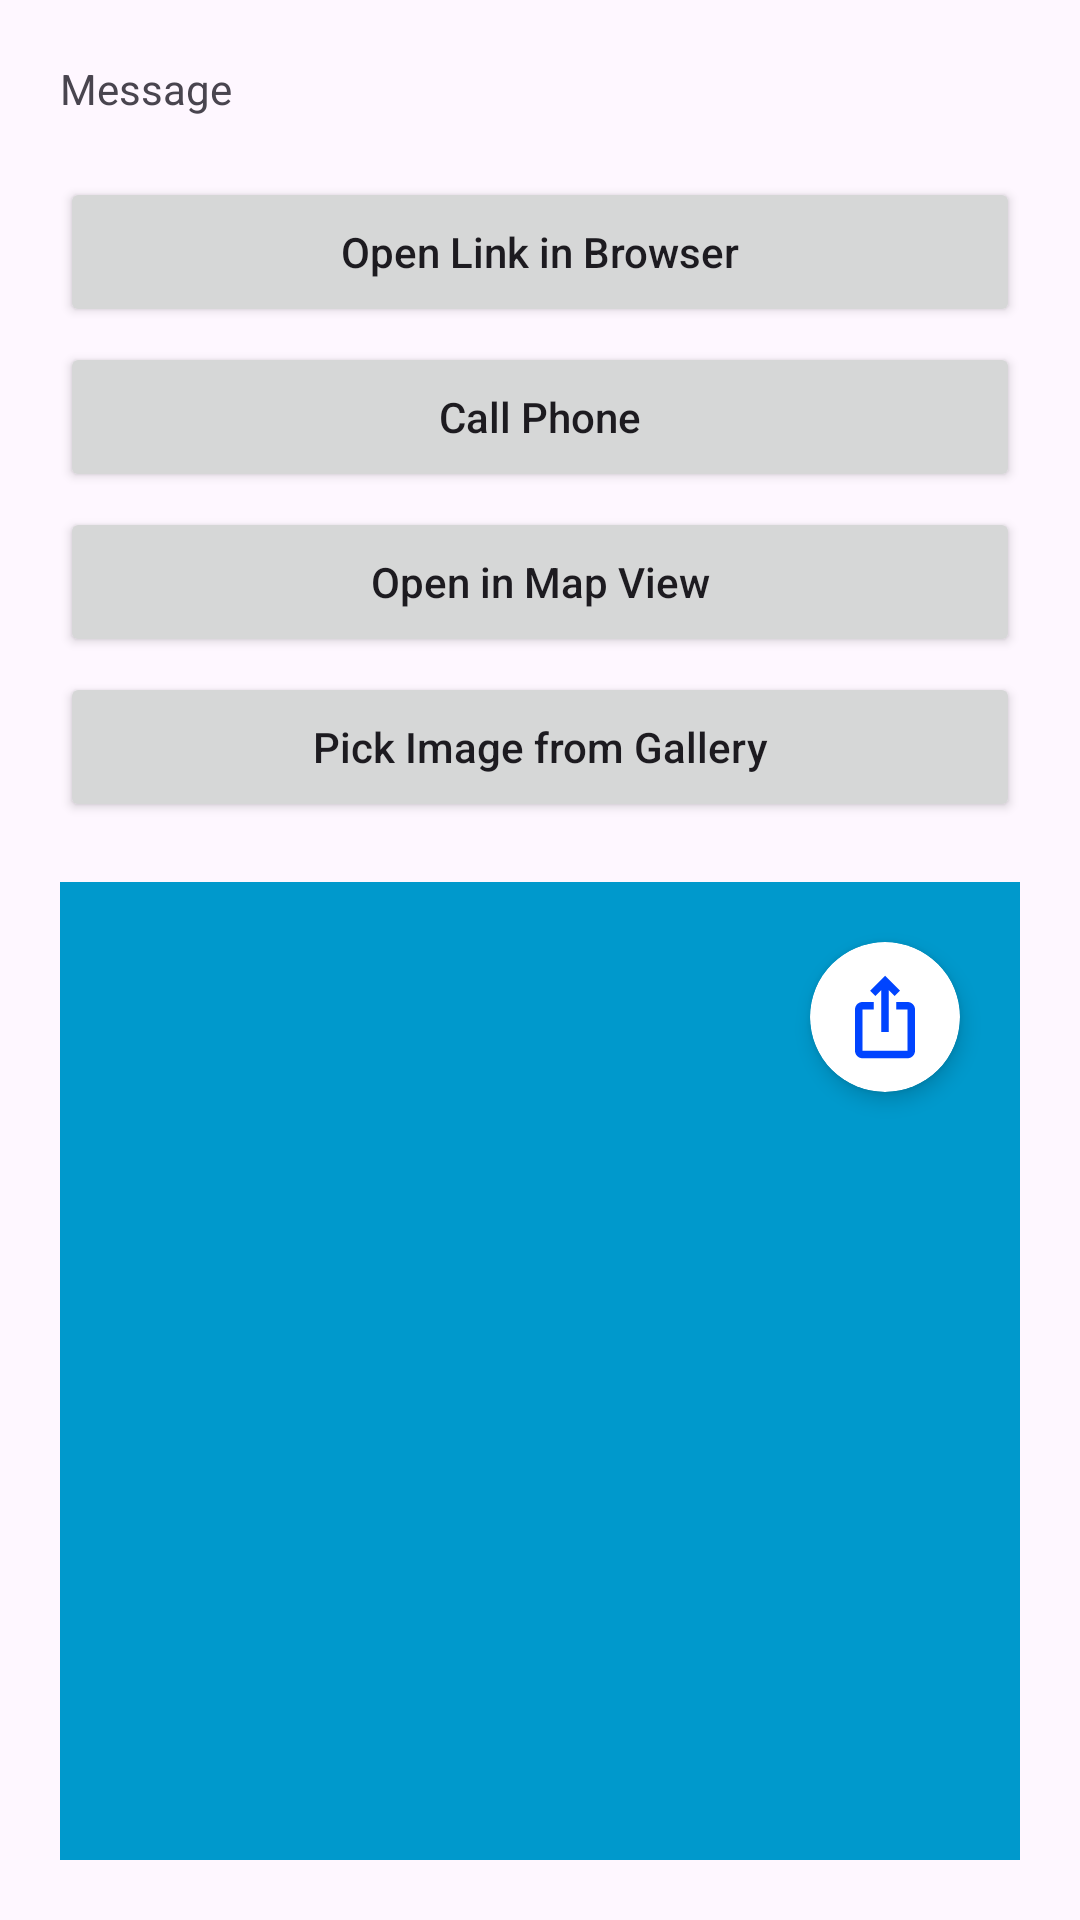

Screen size 1080 x 1920. Icon name, then its center in pixels as point (x, y):
share: point (885, 1017)
